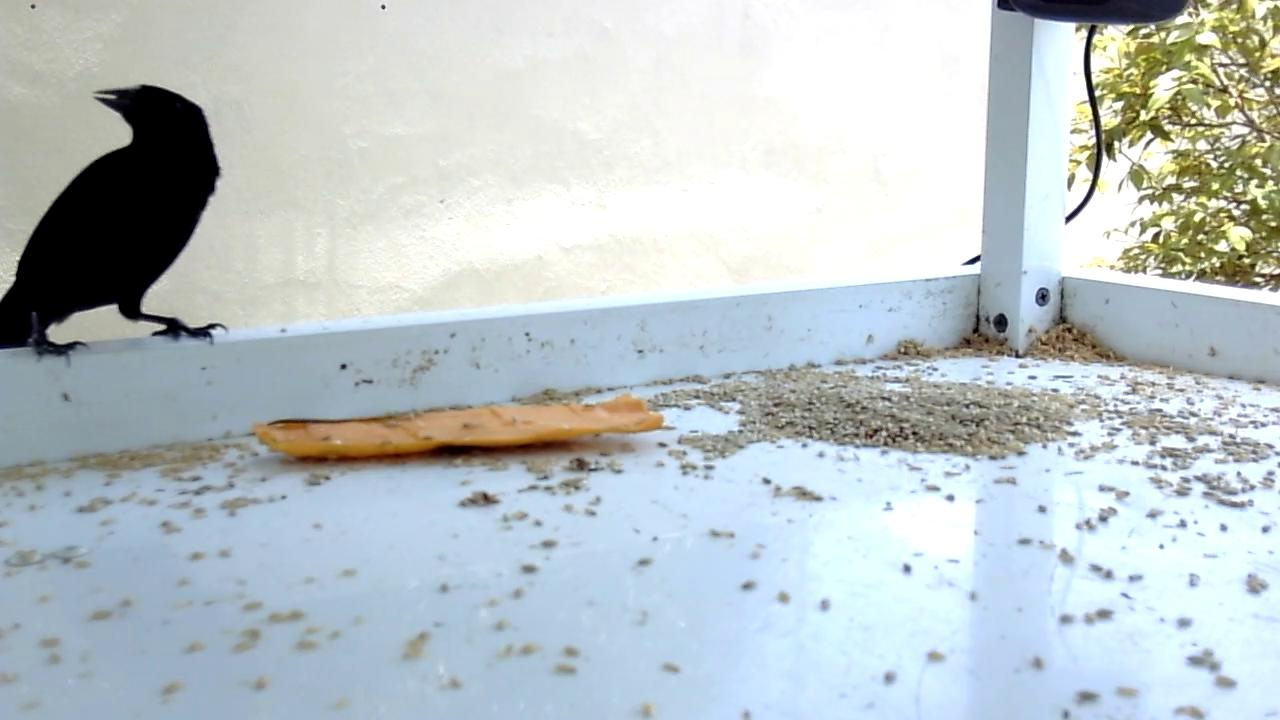chupim: (1, 80, 234, 376)
